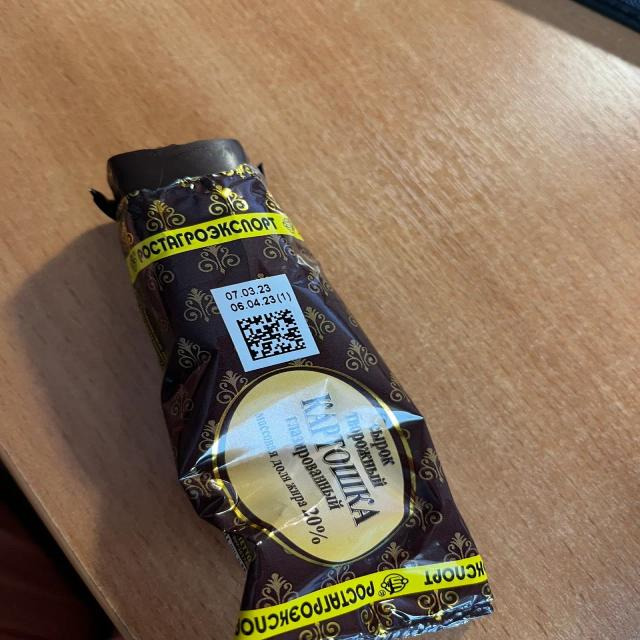datamatrix: (236, 308, 310, 361)
